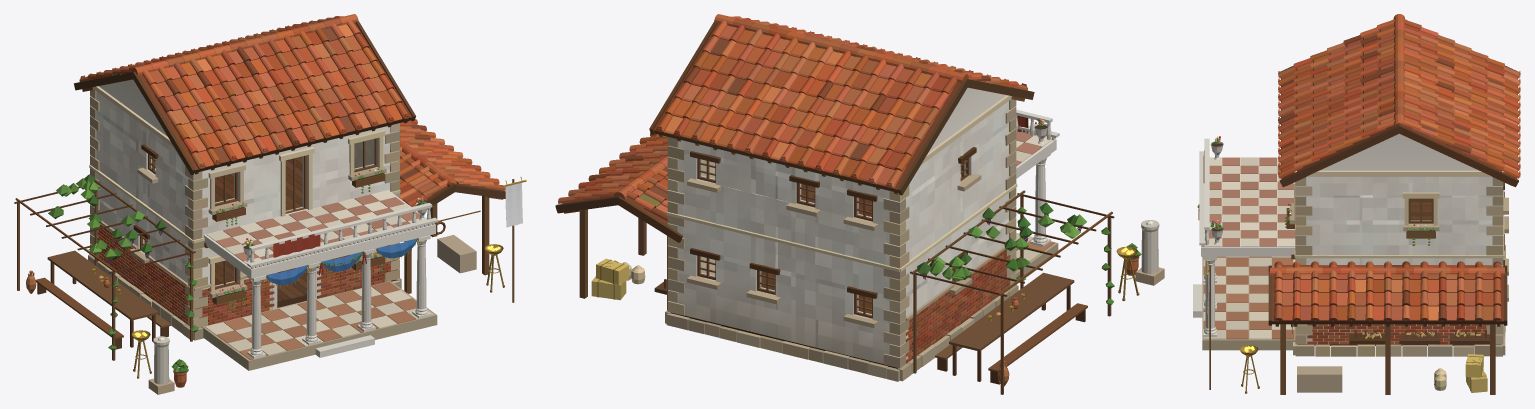
Rendered from civ_center3.glb.
The picture shows the model from 3 angles, left to right: view 1: azimuth 30°, elevation 25°; view 2: azimuth 150°, elevation 25°; view 3: azimuth 270°, elevation 25°; orthographic projection. The views are drawn at different scales.
Parts seen in each view (by area): view 1: House, Walls, Rooms; view 2: House, Walls, Rooms; view 3: House, Walls, Rooms.
Part boxes in pixels (x1,y1,x2,y2): House: [14, 14, 526, 394]; Walls: [96, 79, 393, 318]; Rooms: [147, 139, 373, 302]; House: [555, 14, 1164, 394]; Walls: [674, 87, 1009, 363]; Rooms: [701, 159, 961, 313]; House: [1193, 14, 1520, 394]; Walls: [1297, 133, 1501, 344]; Rooms: [1410, 198, 1431, 220].
Bounding box in the file's own units: 9.97 × 5.74 × 7.19.
Materials: 8 (8 with a texture image).
